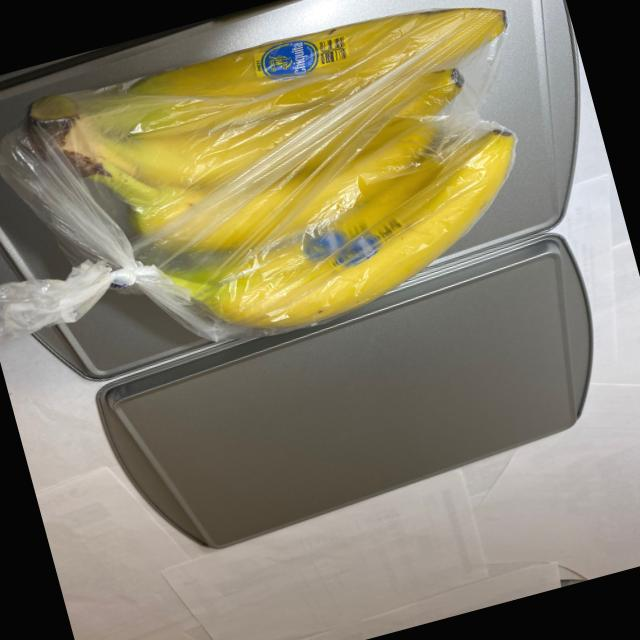banana: (0, 0, 573, 394)
